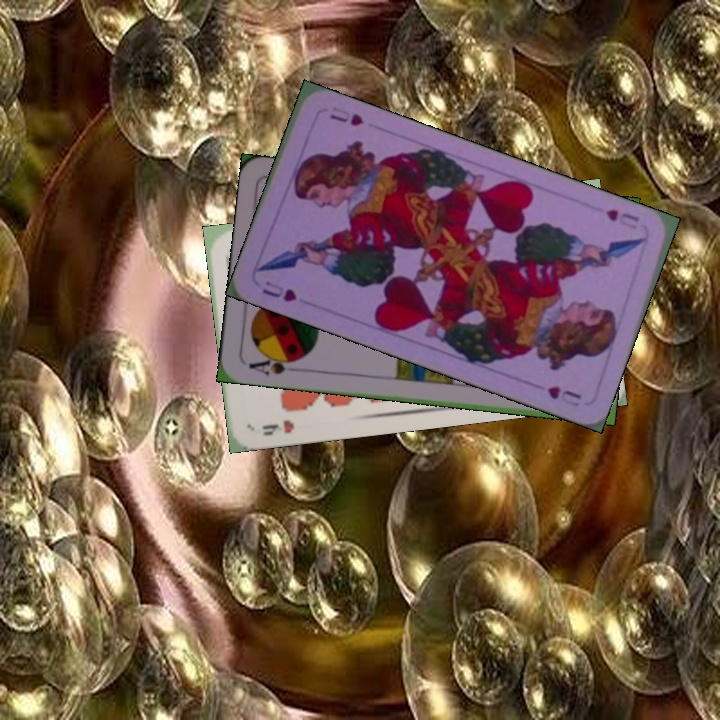H9: (258, 415, 297, 439)
HU: (258, 276, 300, 305), (600, 205, 642, 225)
SA: (244, 350, 303, 378)
